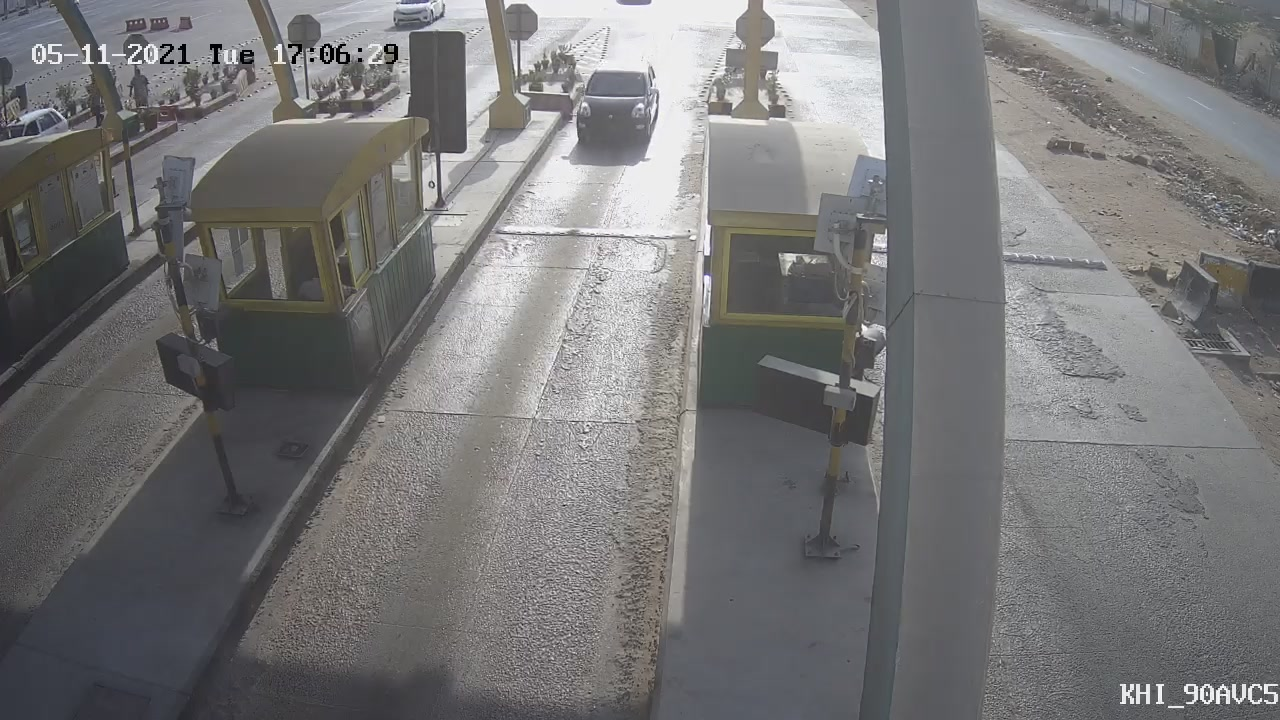F1: (551, 44, 670, 161)
